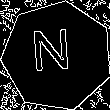N_S: (35, 29, 79, 82)
